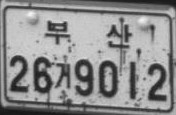0: (97, 59, 118, 98)
1: (122, 60, 142, 100)
2: (8, 53, 29, 93), (146, 62, 167, 101)
6: (31, 55, 53, 94)
9: (72, 57, 94, 97)
거: (54, 62, 71, 89)
부산_D: (43, 18, 133, 49)
